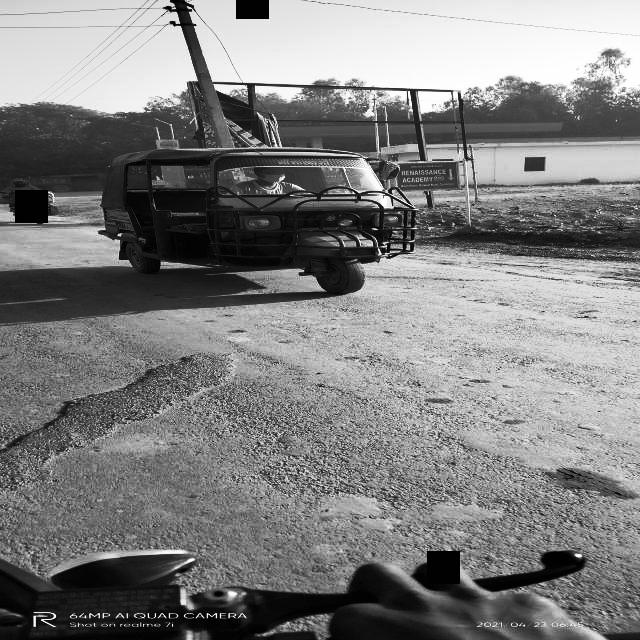Auto-Rickshaw: (92, 154, 421, 300)
